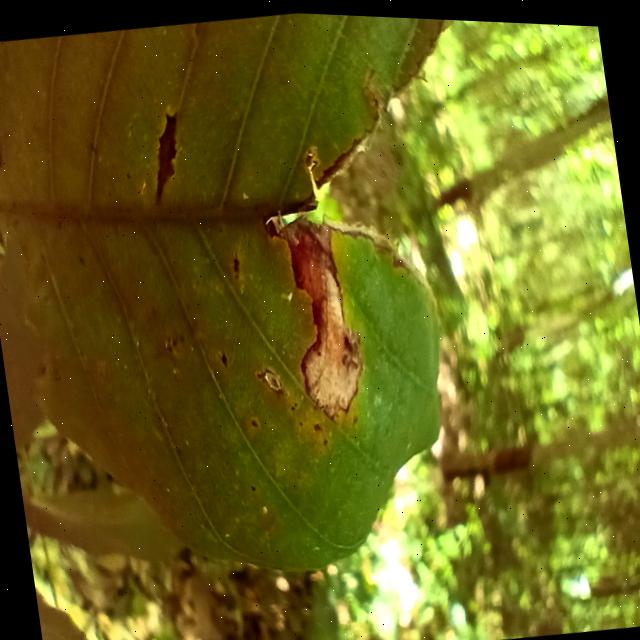Corynespora: (141, 108, 189, 203)
Leaf-Blight: (280, 211, 366, 411)
